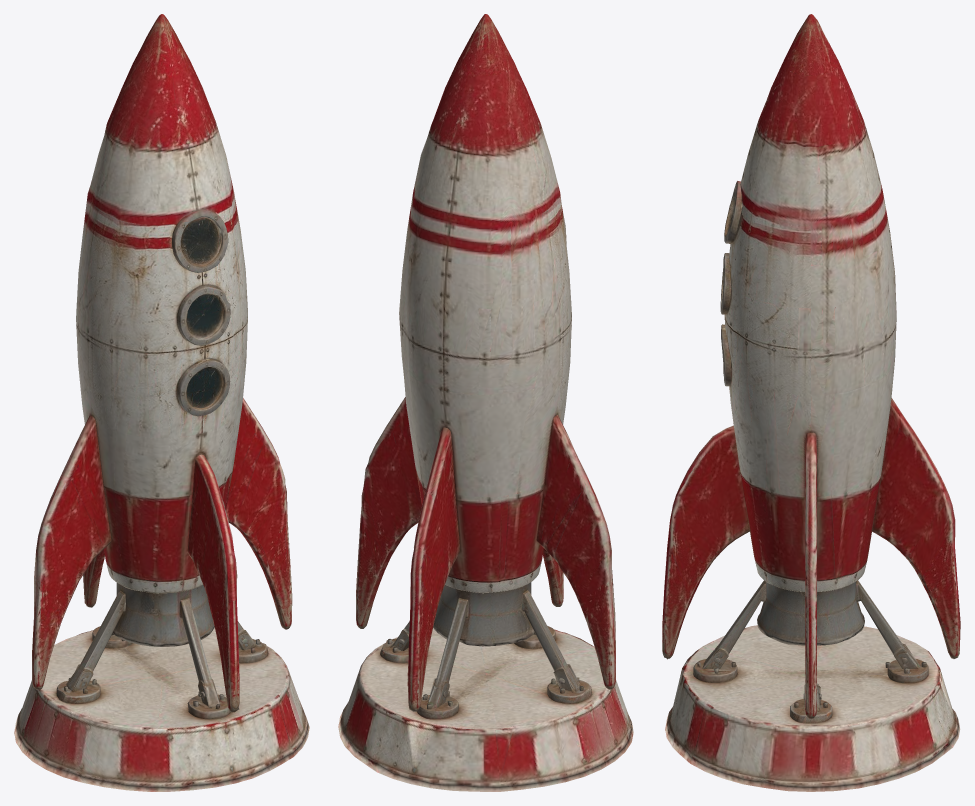
Rendered from skyways-d-sc-rocket.glb.
3 views of the same model, side by side, from view 1: azimuth 30°, elevation 25°; view 2: azimuth 150°, elevation 25°; view 3: azimuth 270°, elevation 25° (orthographic).
Parts seen in each view (by area): view 1: skyways-d-sc-rocket; view 2: skyways-d-sc-rocket; view 3: skyways-d-sc-rocket.
Boxes of the visible parts, x1=… form: skyways-d-sc-rocket: x1=14, y1=14, x2=309, y2=791; skyways-d-sc-rocket: x1=338, y1=14, x2=633, y2=791; skyways-d-sc-rocket: x1=662, y1=14, x2=960, y2=791.
Bounding box in the file's own units: 0.8328 × 2.2 × 0.8328.
1 material, 1 textured.
